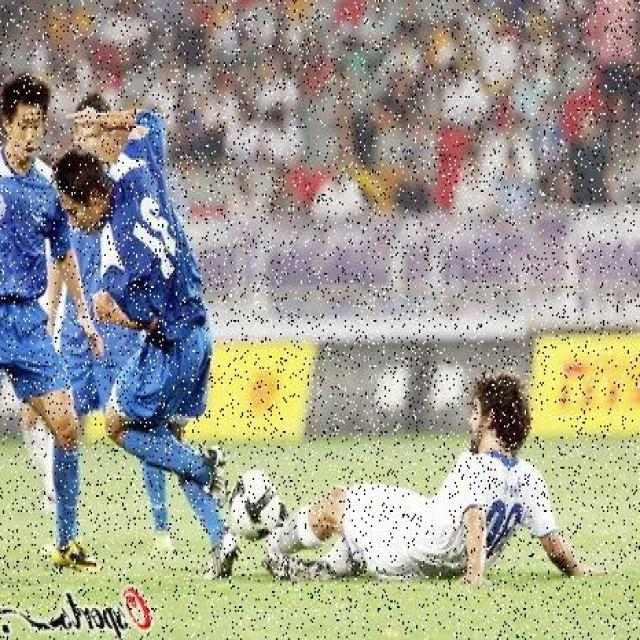fall: (284, 362, 564, 590)
